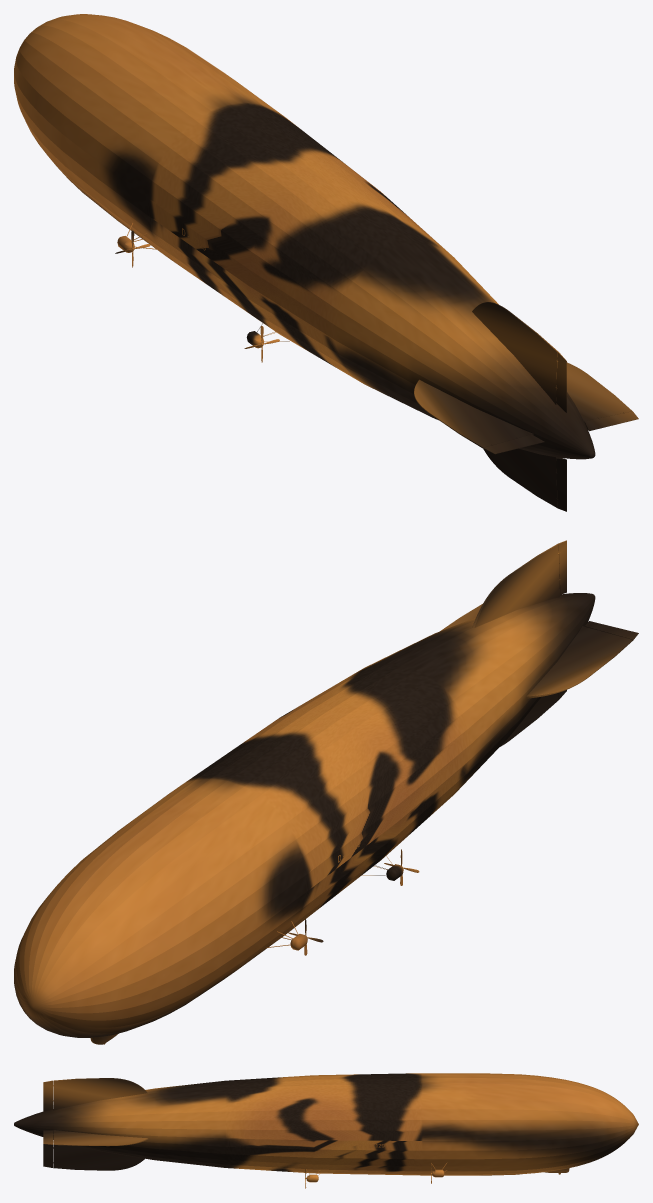
File: air.FBX
The picture shows the model from 3 angles, top to bottom: view 1: azimuth 30°, elevation 25°; view 2: azimuth 150°, elevation 25°; view 3: azimuth 270°, elevation 25°; orthographic projection. The views are drawn at different scales.
Parts seen in each view (by area): view 1: LZ129; view 2: LZ129; view 3: LZ129.
Part boxes in pixels (x1,y1,x2,y2): LZ129: [14, 14, 638, 511]; LZ129: [14, 540, 638, 1044]; LZ129: [14, 1073, 638, 1188].
Bounding box in the file's own units: 157 × 733 × 125.
